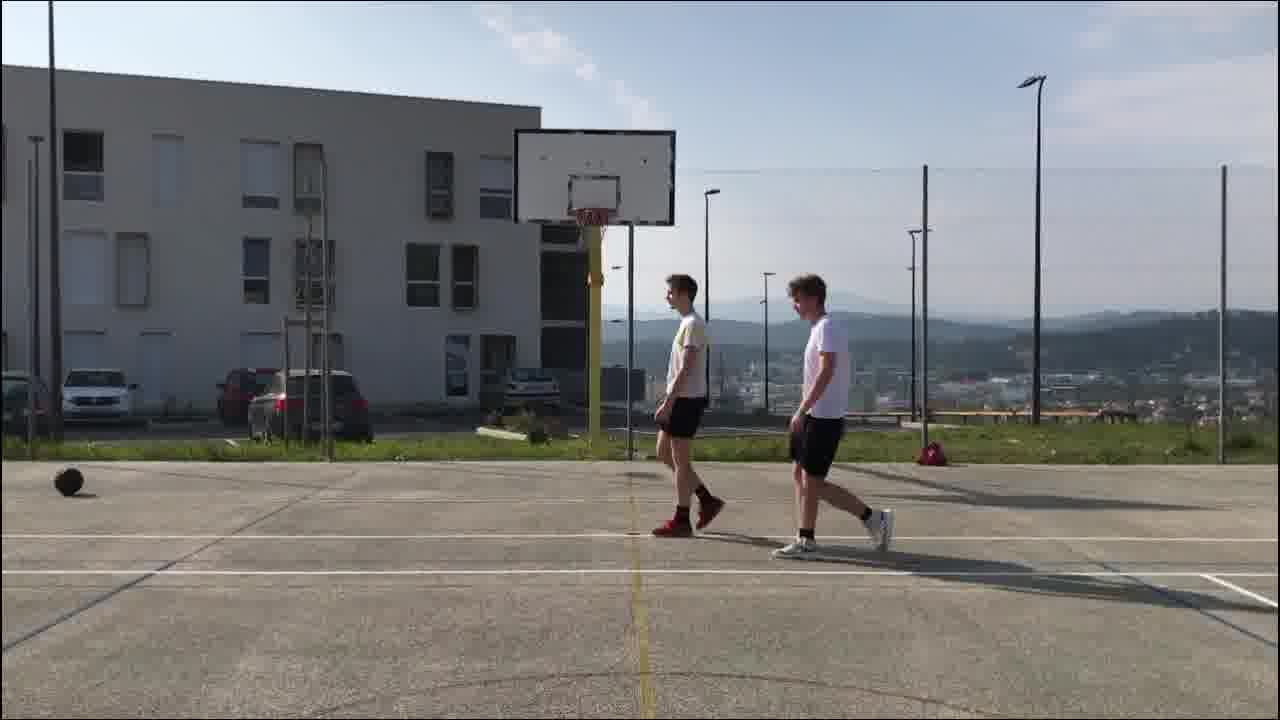jugador: (637, 267, 735, 549)
